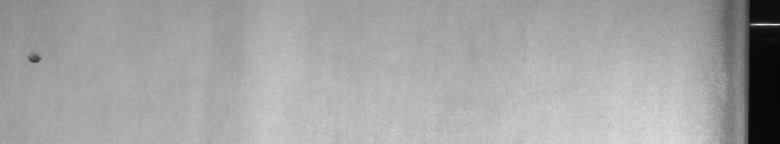fi: (24, 47, 44, 72)
